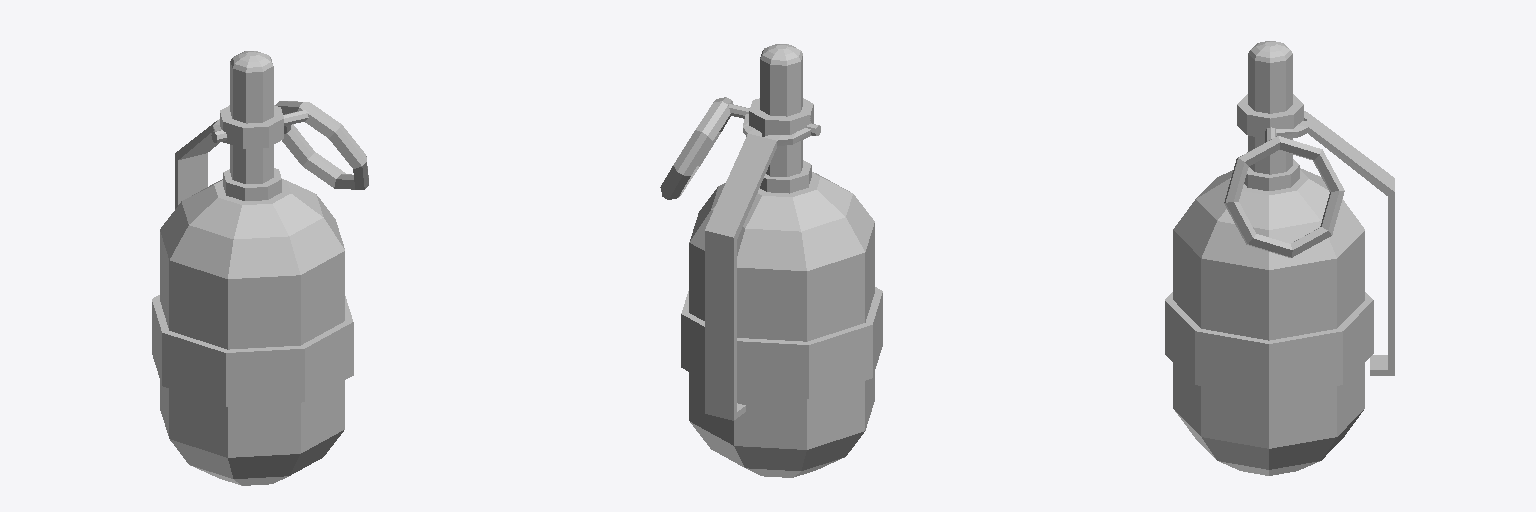
File: Frag_East.obj
3 views of the same model, side by side, from view 1: azimuth 30°, elevation 25°; view 2: azimuth 150°, elevation 25°; view 3: azimuth 270°, elevation 25° (orthographic).
Visible parts, largest first — view 1: Frag_East; view 2: Frag_East; view 3: Frag_East.
Part boxes in pixels (bbox=[...]): Frag_East: bbox=[152, 51, 368, 485]; Frag_East: bbox=[660, 44, 882, 477]; Frag_East: bbox=[1165, 41, 1394, 475].
Size of the model in its own units: 0.0661 by 0.1321 by 0.0665.